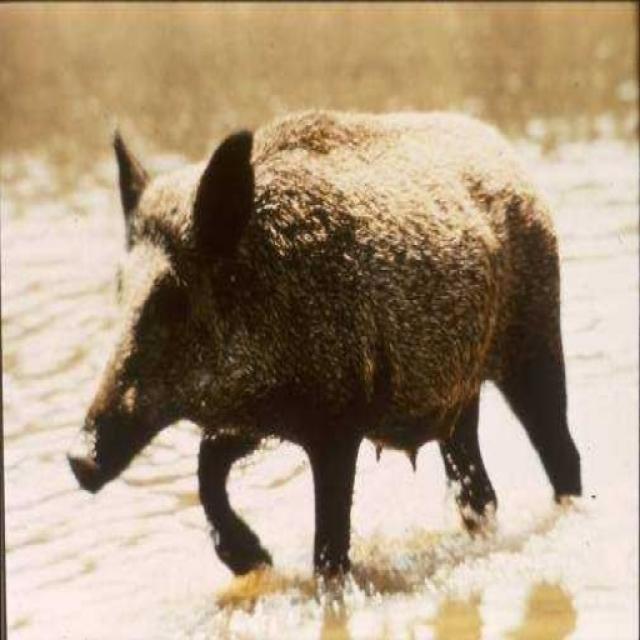pig: (54, 59, 640, 579)
